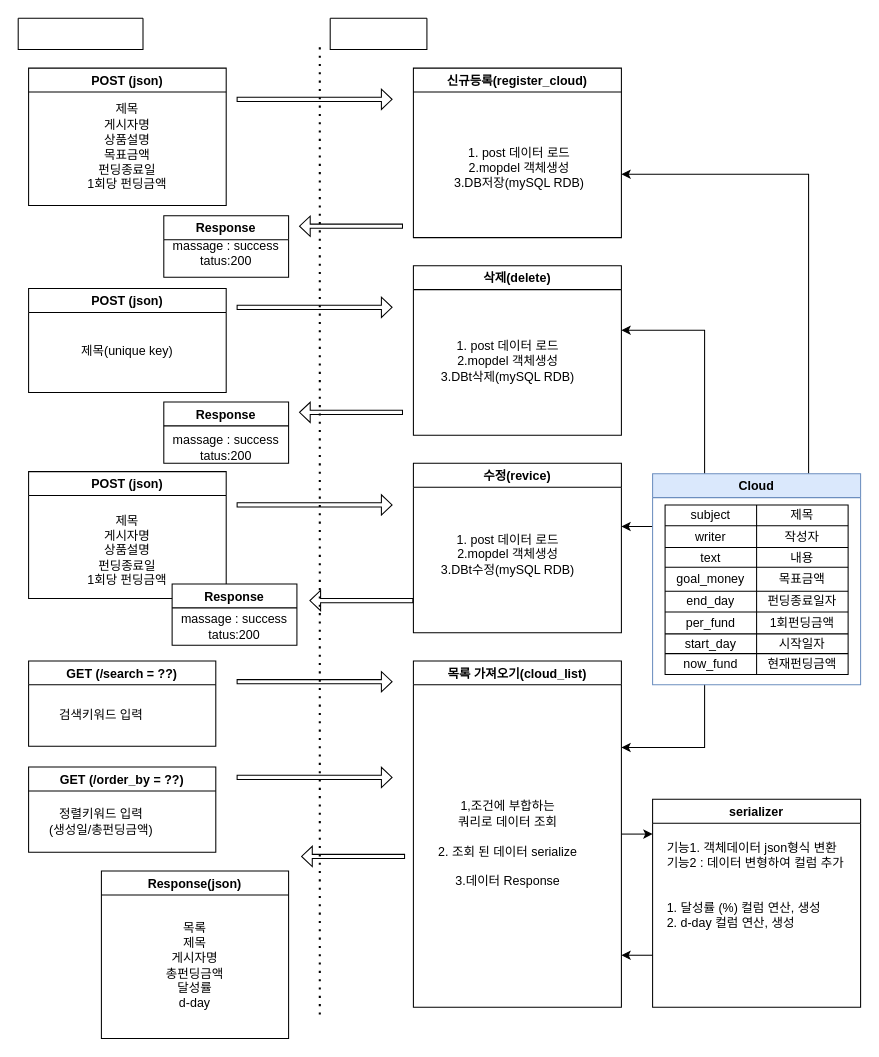
Some shapes in this 879 by 1057 pixel diagram are drawn without their labels. The shapes that lost their labels are listed below. From the top down, each one's centre as x and y in pixels, then its label:
At point (80, 33): "front (AJAX)".
At point (378, 33): "back".
